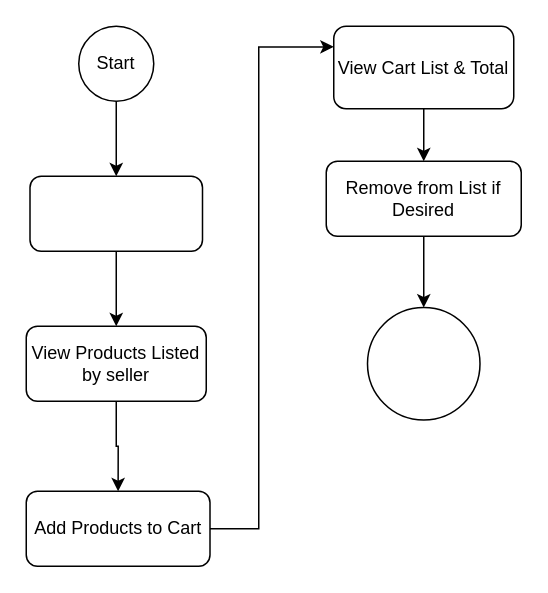
This 548x593 diagram has some shape labels left out. The shapes that lost their labels are listed below. From the top down, each one's centre as x and y in pixels, then its label:
[115,213]: Select seller from List
[423,363]: Stop
